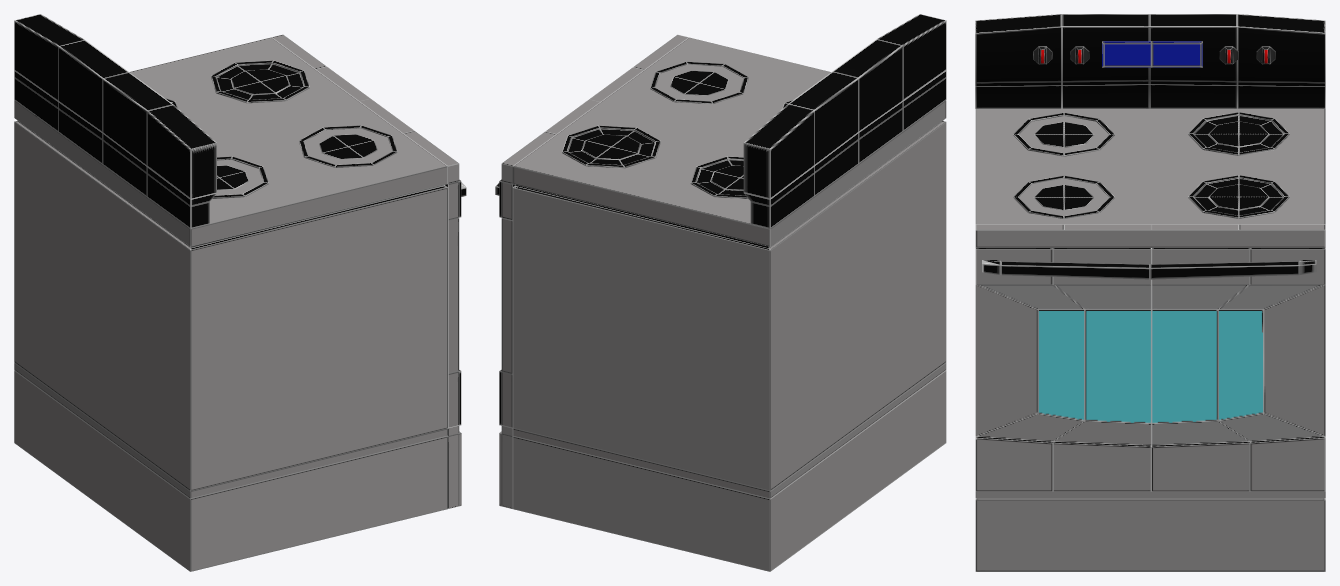
The model's file is Estufa.obj.
3 renders of one model, left to right at view 1: azimuth 30°, elevation 25°; view 2: azimuth 150°, elevation 25°; view 3: azimuth 270°, elevation 25°, orthographic.
Visible parts, largest first — view 1: Estufa:stove; view 2: Estufa:stove; view 3: Estufa:stove.
Boxes of the visible parts, box(x1,y1,x2,y2) form: Estufa:stove: box(14, 14, 466, 571); Estufa:stove: box(495, 14, 946, 571); Estufa:stove: box(975, 14, 1325, 571).
Bounding box in the file's own units: 3.29 × 4.74 × 3.52.
1 material, 1 textured.
